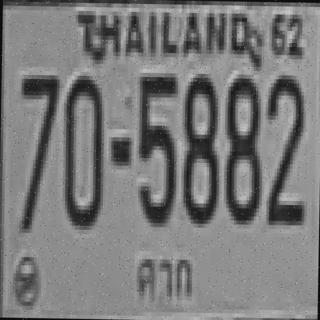N00: (62, 71, 102, 226)
N02: (264, 73, 304, 223)
N05: (135, 72, 176, 223)
N07: (16, 70, 57, 229), (17, 70, 57, 176)
N08: (180, 73, 218, 220), (223, 74, 261, 220)
P69: (132, 248, 202, 310)
